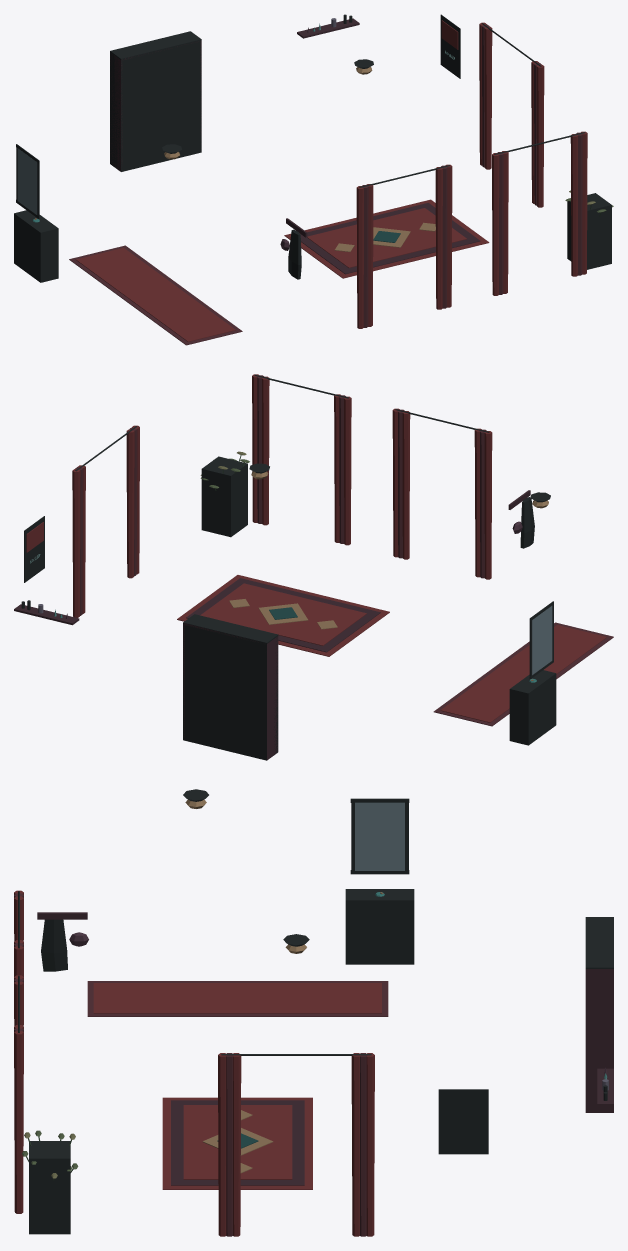
File: decor_living.glb
3 views of the same model, one above another, from view 1: azimuth 30°, elevation 25°; view 2: azimuth 150°, elevation 25°; view 3: azimuth 270°, elevation 25° (orthographic). The views are drawn at different scales.
Parts seen in each view (by area): view 1: Decor, Coliziune; view 2: Decor, Coliziune; view 3: Decor, Coliziune.
Boxes of the visible parts, box(x1,y1,x2,y2) form: Decor: box(16, 14, 613, 345); Coliziune: box(14, 31, 611, 282); Decor: box(14, 374, 613, 760); Coliziune: box(183, 456, 556, 760); Decor: box(14, 789, 613, 1236); Coliziune: box(29, 889, 613, 1234).
Size of the model in its own units: 8.1 by 2.7 by 7.18.
